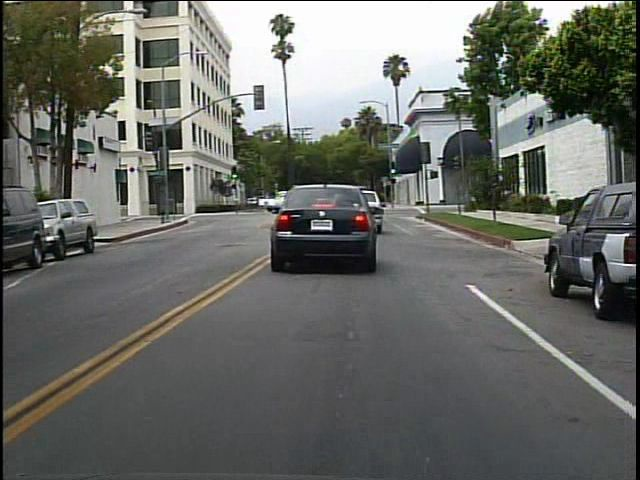person: (279, 185, 305, 221)
